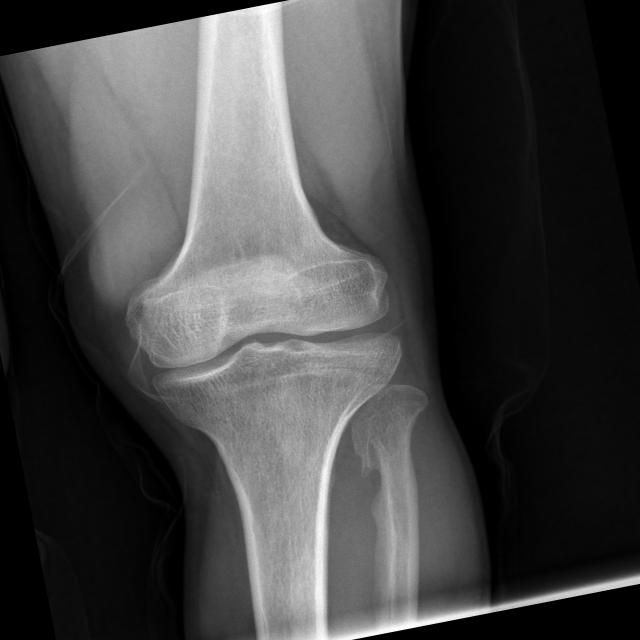Knee: (116, 229, 418, 462)
